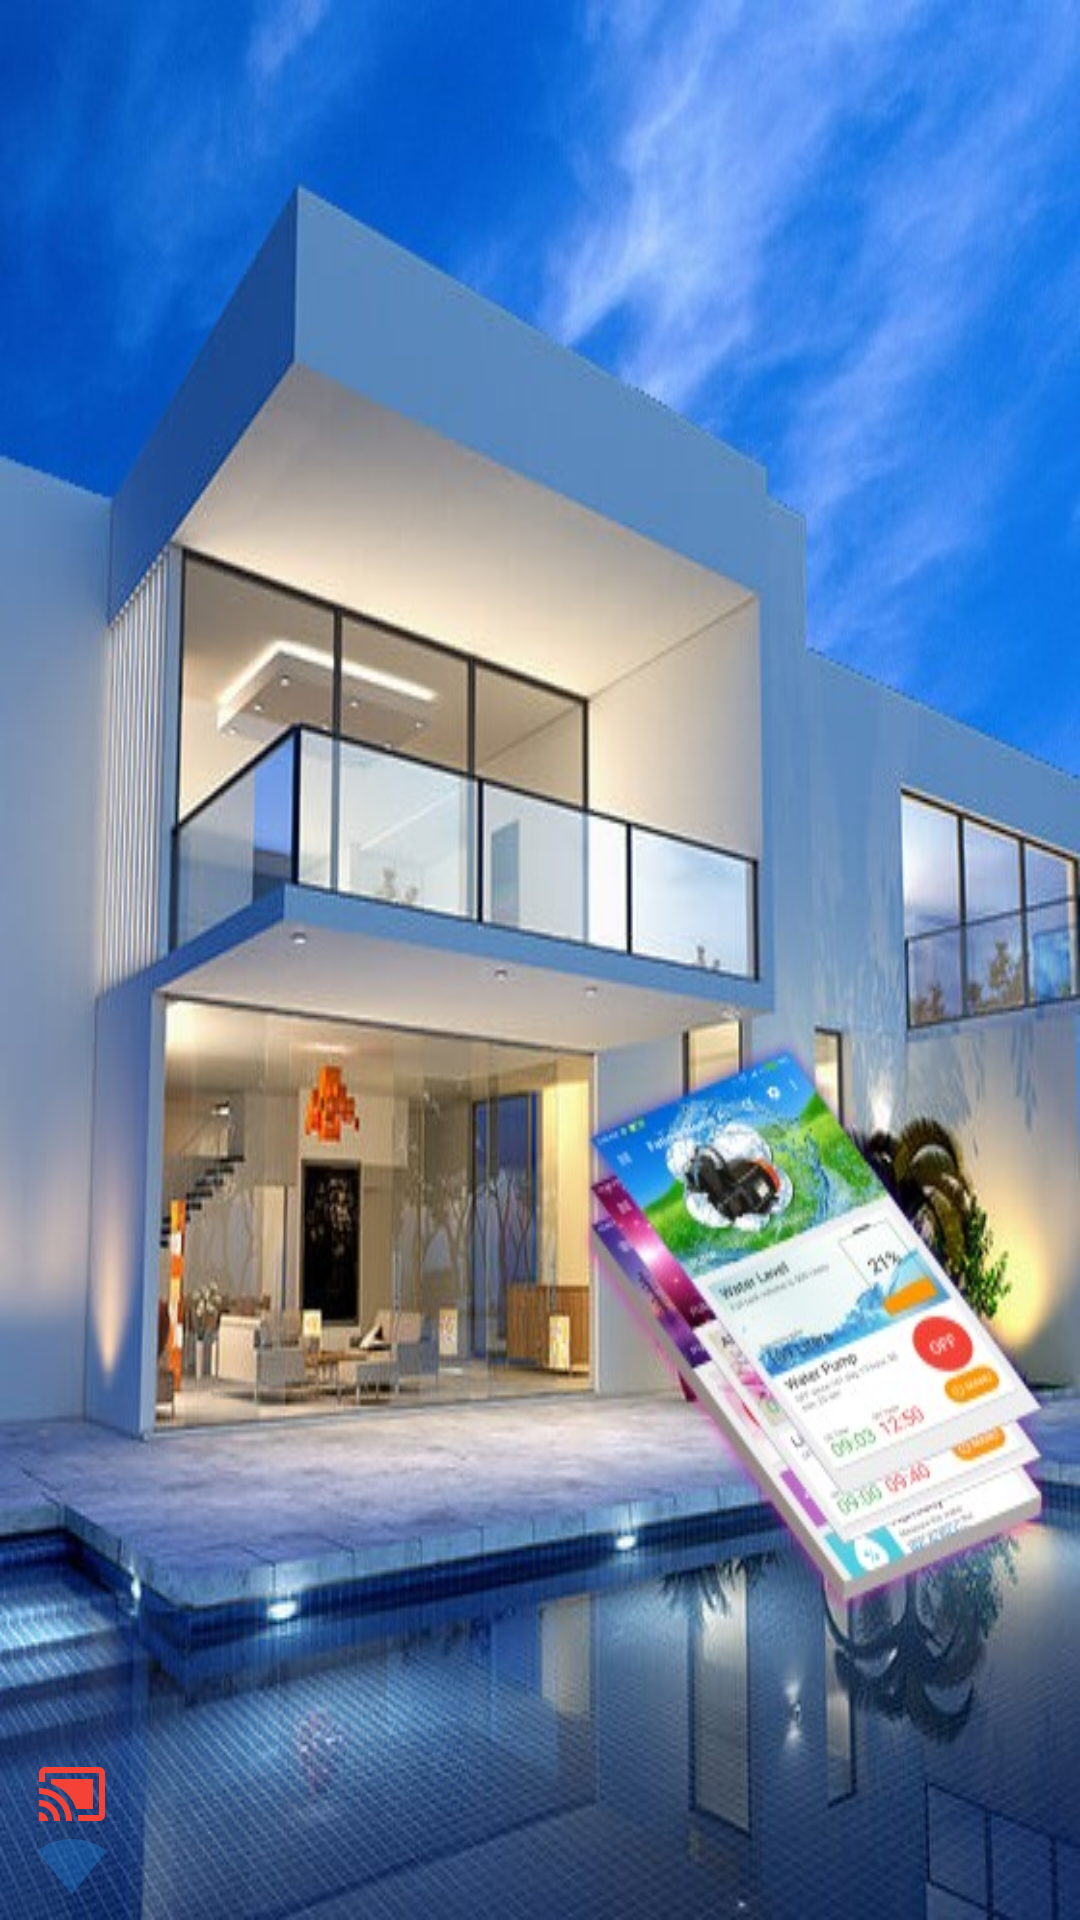

Where to tap for icons on this 1080×1920 app screen, as point (x, y):
connect device: point (72, 1796)
